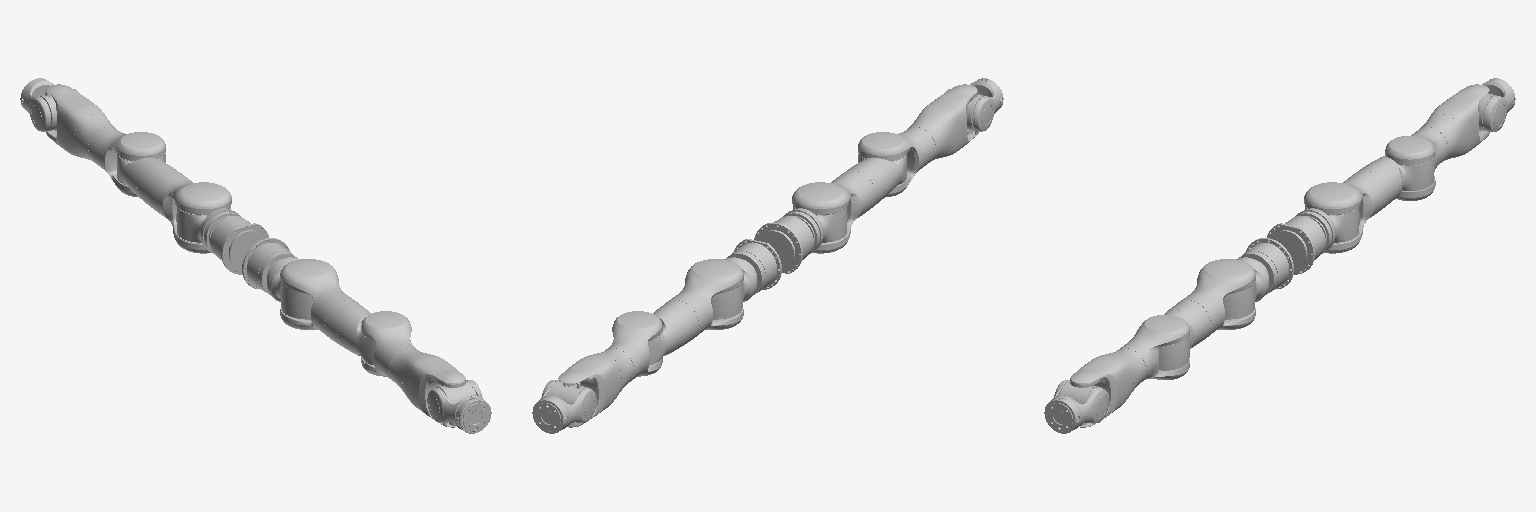
The robot description file, URDF, robot "marvin_robot":
<?xml version="1.0" ?>
<robot name="marvin_robot">
  <link name="left_base_link">
    <inertial>
      <origin rpy="0 0 0" xyz="0.0001427 1.626E-05 0.039067" />
      <mass value="1.2946" />
      <inertia ixx="0.01" ixy="0.0" ixz="0.0" iyy="0.01" iyz="0.0" izz="0.01" />
    </inertial>
    <visual>
      <origin rpy="1.57 0 3.14159" xyz="0 0 0" />
      <geometry>
        <mesh filename="meshes/arm_meshes/Base_Marvin_M6_S.STL" />
      </geometry>
      <material name="baselink_mat">
        <color rgba="0.8 0.8 0.8 1" />

      </material>
    </visual>
    <collision>
      <origin rpy="1.57 0 3.14159" xyz="0 0 0" />
      <geometry>
        <mesh filename="meshes/arm_meshes/Base_Marvin_M6_S.STL" />
      </geometry>
    </collision>
  </link>
  <link name="left_link1">
    <inertial>
      <origin rpy="0 0 0" xyz="1.875E-05 0.006003 0.1438" />
      <mass value="2.0926" />
      <inertia ixx="0.01" ixy="0.0" ixz="0.0" iyy="0.01" iyz="0.0" izz="0.01" />
    </inertial>
    <visual>
      <origin rpy="0 0 0" xyz="0 0 0" />
      <geometry>
        <mesh filename="meshes/arm_meshes/S_Arm_Marvin_M6_S.STL" />
      </geometry>
      <material name="link1_mat">
        <color rgba="0.8 0.8 0.8 1" />
      </material>
    </visual>
    <collision>
      <origin rpy="0 0 0" xyz="0 0 0" />
      <geometry>
        <mesh filename="meshes/arm_meshes/S_Arm_Marvin_M6_S.STL" />
      </geometry>
    </collision>
  </link>
  <joint name="left_joint1" type="revolute">
    <origin rpy="0 0 0" xyz="0.0 0.0 0.0" />
    <parent link="left_base_link" />
    <child link="left_link1" />
    <axis xyz="0 0 1" />
    <limit effort="108" lower="-3.11" upper="3.11" velocity="3.14" />
  </joint>
  <link name="left_link2">
    <inertial>
      <origin rpy="0 0 0" xyz="-7.03E-06 0.05542 0.010995" />
      <mass value="1.9432" />
      <inertia ixx="0.01" ixy="0.0" ixz="0.0" iyy="0.01" iyz="0.0" izz="0.01" />
    </inertial>
    <visual>
      <origin rpy="0 0 0" xyz="0 0 0" />
      <geometry>
        <mesh filename="meshes/arm_meshes/L_Arm_Marvin_M6_S.STL" />
      </geometry>
      <material name="link2_mat">
        <color rgba="0.8 0.8 0.8 1" />
      </material>
    </visual>
    <collision>
      <origin rpy="0 0 0" xyz="0 0 0" />
      <geometry>
        <mesh filename="meshes/arm_meshes/L_Arm_Marvin_M6_S.STL" />
      </geometry>
    </collision>
  </link>
  <joint name="left_joint2" type="revolute">
    <origin rpy="0 0 0" xyz="0.0 0.0 0.1745" />
    <parent link="left_link1" />
    <child link="left_link2" />
    <axis xyz="0 -1 0" />
    <limit effort="108" lower="-2.093" upper="2.093" velocity="3.14" />
  </joint>
  <link name="left_link3">
    <inertial>
      <origin rpy="0 0 0" xyz="0.0087411 0.0019043 0.23487" />
      <mass value="1.6913" />
      <inertia ixx="0.01" ixy="0.0" ixz="0.0" iyy="0.01" iyz="0.0" izz="0.01" />
    </inertial>
    <visual>
      <origin rpy="0 0 0" xyz="0 0 0" />
      <geometry>
        <mesh filename="meshes/arm_meshes/E_Arm_Marvin_M6_S_689.STL" />
      </geometry>
      <material name="link3_mat">
        <color rgba="0.8 0.8 0.8 1" />
      </material>
    </visual>
    <collision>
      <origin rpy="0 0 0" xyz="0 0 0" />
      <geometry>
        <mesh filename="meshes/arm_meshes/E_Arm_Marvin_M6_S_689.STL" />
      </geometry>
    </collision>
  </link>
  <joint name="left_joint3" type="revolute">
    <origin rpy="0 0 0" xyz="0.0 0.0 0.0" />
    <parent link="left_link2" />
    <child link="left_link3" />
    <axis xyz="0 0 1" />
    <limit effort="66" lower="-3.11" upper="3.11" velocity="3.14" />
  </joint>
  <link name="left_link4">
    <inertial>
      <origin rpy="0 0 0" xyz="-0.0086935 0.045984 0.011135" />
      <mass value="1.5332" />
      <inertia ixx="0.01" ixy="0.0" ixz="0.0" iyy="0.01" iyz="0.0" izz="0.01" />
    </inertial>
    <visual>
      <origin rpy="0 0 0" xyz="0 0 0" />
      <geometry>
        <mesh filename="meshes/arm_meshes/U_Arm_Marvin_M6_S_CCS.STL" />
      </geometry>
      <material name="link4_mat">
        <color rgba="0.8 0.8 0.8 1" />
      </material>
    </visual>
    <collision>
      <origin rpy="0 0 0" xyz="0 0 0" />
      <geometry>
        <mesh filename="meshes/arm_meshes/U_Arm_Marvin_M6_S_CCS.STL" />
      </geometry>
    </collision>
  </link>
  <joint name="left_joint4" type="revolute">
    <origin rpy="0 0 0" xyz="0.018 0.0 0.287" />
    <parent link="left_link3" />
    <child link="left_link4" />
    <axis xyz="0 -1 0" />
    <limit effort="66" lower="-1.047" upper="2.529" velocity="3.14" />
  </joint>
  <link name="left_link5">
    <inertial>
      <origin rpy="0 0 0" xyz="-0.00036467 0.0001479 0.19902" />
      <mass value="2.0095" />
      <inertia ixx="0.01" ixy="0.0" ixz="0.0" iyy="0.01" iyz="0.0" izz="0.01" />
    </inertial>
    <visual>
      <origin rpy="0 0 0" xyz="0 0 0" />
      <geometry>
        <mesh filename="meshes/arm_meshes/R_Arm_Marvin_M6_S_CCS.STL" />
      </geometry>
      <material name="link5_mat">
        <color rgba="0.8 0.8 0.8 1" />
      </material>
    </visual>
    <collision>
      <origin rpy="0 0 0" xyz="0 0 0" />
      <geometry>
        <mesh filename="meshes/arm_meshes/R_Arm_Marvin_M6_S_CCS.STL" />
      </geometry>
    </collision>
  </link>
  <joint name="left_joint5" type="revolute">
    <origin rpy="0 0 0" xyz="-0.018 0.0 0.314" />
    <parent link="left_link4" />
    <child link="left_link5" />
    <axis xyz="0 0 1" />
    <limit effort="18" lower="-3.11" upper="3.11" velocity="3.14" />
  </joint>
  <link name="left_link6">
    <inertial>
      <origin rpy="0 0 0" xyz="-0.004911 0.00027206 -8.14E-05" />
      <mass value="0.67002" />
      <inertia ixx="0.01" ixy="0.0" ixz="0.0" iyy="0.01" iyz="0.0" izz="0.01" />
    </inertial>
    <visual>
      <origin rpy="0 0 0" xyz="0 0 0" />
      <geometry>
        <mesh filename="meshes/arm_meshes/B_Arm_Marvin_M6_S_CCS.STL" />
      </geometry>
      <material name="link6_mat">
        <color rgba="0.8 0.8 0.8 1" />
      </material>
    </visual>
    <collision>
      <origin rpy="0 0 0" xyz="0 0 0" />
      <geometry>
        <mesh filename="meshes/arm_meshes/B_Arm_Marvin_M6_S_CCS.STL" />
      </geometry>
    </collision>
  </link>
  <joint name="left_joint6" type="revolute">
    <origin rpy="0 0 0" xyz="0.0 0.0 0.0" />
    <parent link="left_link5" />
    <child link="left_link6" />
    <axis xyz="0 -1 0" />
    <limit effort="18" lower="-1.0467" upper="1.0467" velocity="3.14" />
  </joint>
  <link name="left_link7">
    <inertial>
      <origin rpy="0 0 0" xyz="0.044988 -4.226E-05 0.0055581" />
      <mass value="0.31658" />
      <inertia ixx="0.01" ixy="0.0" ixz="0.0" iyy="0.01" iyz="0.0" izz="0.01" />
    </inertial>
    <visual>
      <origin rpy="0 -1.57 3.14" xyz="0 0 0" />
      <geometry>
        <mesh filename="meshes/arm_meshes/T_Arm_Marvin_M6_S_R_CCS.STL" />
      </geometry>
      <material name="link7_mat">
        <color rgba="0.8 0.8 0.8 1" />
      </material>
    </visual>
    <collision>
      <origin rpy="0 -1.57 3.14" xyz="0 0 0" />
      <geometry>
        <mesh filename="meshes/arm_meshes/T_Arm_Marvin_M6_S_R_CCS.STL" />
      </geometry>
    </collision>
  </link>
  <joint name="left_joint7" type="revolute">
    <origin rpy="0 0 0" xyz="0.0 0.0 0.0" />
    <parent link="left_link6" />
    <child link="left_link7" />
    <axis xyz="1 0 0" />
    <limit effort="18" lower="-1.57" upper="1.57" velocity="3.14" />
  </joint>
  <link name="left_flange" />
  <joint name="left_joint_flange" type="fixed">
    <origin rpy="0 0 0" xyz="0.0 0.0 0.088" />
    <parent link="left_link7" />
    <child link="left_flange" />
  </joint>
  <link name="right_base_link">
    <inertial>
      <origin rpy="0 0 0" xyz="0.0001427 1.626E-05 0.039067" />
      <mass value="1.2946" />
      <inertia ixx="0.01" ixy="0.0" ixz="0.0" iyy="0.01" iyz="0.0" izz="0.01" />
    </inertial>
    <visual>
      <origin rpy="1.57 0 3.14159" xyz="0 0 0" />
      <geometry>
        <mesh filename="meshes/arm_meshes/Base_Marvin_M6_S.STL" />
      </geometry>
      <material name="baselink_mat">
        <color rgba="0.8 0.8 0.8 1" />

      </material>
    </visual>
    <collision>
      <origin rpy="1.57 0 3.14159" xyz="0 0 0" />
      <geometry>
        <mesh filename="meshes/arm_meshes/Base_Marvin_M6_S.STL" />
      </geometry>
    </collision>
  </link>
  <link name="right_link1">
    <inertial>
      <origin rpy="0 0 0" xyz="1.875E-05 0.006003 0.1438" />
      <mass value="2.0926" />
      <inertia ixx="0.01" ixy="0.0" ixz="0.0" iyy="0.01" iyz="0.0" izz="0.01" />
    </inertial>
    <visual>
      <origin rpy="0 0 0" xyz="0 0 0" />
      <geometry>
        <mesh filename="meshes/arm_meshes/S_Arm_Marvin_M6_S.STL" />
      </geometry>
      <material name="link1_mat">
        <color rgba="0.8 0.8 0.8 1" />
      </material>
    </visual>
    <collision>
      <origin rpy="0 0 0" xyz="0 0 0" />
      <geometry>
        <mesh filename="meshes/arm_meshes/S_Arm_Marvin_M6_S.STL" />
      </geometry>
    </collision>
  </link>
  <joint name="right_joint1" type="revolute">
    <origin rpy="0 0 0" xyz="0.0 0.0 0.0" />
    <parent link="right_base_link" />
    <child link="right_link1" />
    <axis xyz="0 0 1" />
    <limit effort="108" lower="-3.11" upper="3.11" velocity="3.14" />
  </joint>
  <link name="right_link2">
    <inertial>
      <origin rpy="0 0 0" xyz="-7.03E-06 0.05542 0.010995" />
      <mass value="1.9432" />
      <inertia ixx="0.01" ixy="0.0" ixz="0.0" iyy="0.01" iyz="0.0" izz="0.01" />
    </inertial>
    <visual>
      <origin rpy="0 0 0" xyz="0 0 0" />
      <geometry>
        <mesh filename="meshes/arm_meshes/L_Arm_Marvin_M6_S.STL" />
      </geometry>
      <material name="link2_mat">
        <color rgba="0.8 0.8 0.8 1" />
      </material>
    </visual>
    <collision>
      <origin rpy="0 0 0" xyz="0 0 0" />
      <geometry>
        <mesh filename="meshes/arm_meshes/L_Arm_Marvin_M6_S.STL" />
      </geometry>
    </collision>
  </link>
  <joint name="right_joint2" type="revolute">
    <origin rpy="0 0 0" xyz="0.0 0.0 0.1745" />
    <parent link="right_link1" />
    <child link="right_link2" />
    <axis xyz="0 -1 0" />
    <limit effort="108" lower="-2.093" upper="2.093" velocity="3.14" />
  </joint>
  <link name="right_link3">
    <inertial>
      <origin rpy="0 0 0" xyz="0.0087411 0.0019043 0.23487" />
      <mass value="1.6913" />
      <inertia ixx="0.01" ixy="0.0" ixz="0.0" iyy="0.01" iyz="0.0" izz="0.01" />
    </inertial>
    <visual>
      <origin rpy="0 0 0" xyz="0 0 0" />
      <geometry>
        <mesh filename="meshes/arm_meshes/E_Arm_Marvin_M6_S_689.STL" />
      </geometry>
      <material name="link3_mat">
        <color rgba="0.8 0.8 0.8 1" />
      </material>
    </visual>
    <collision>
      <origin rpy="0 0 0" xyz="0 0 0" />
      <geometry>
        <mesh filename="meshes/arm_meshes/E_Arm_Marvin_M6_S_689.STL" />
      </geometry>
    </collision>
  </link>
  <joint name="right_joint3" type="revolute">
    <origin rpy="0 0 0" xyz="0.0 0.0 0.0" />
    <parent link="right_link2" />
    <child link="right_link3" />
    <axis xyz="0 0 1" />
    <limit effort="66" lower="-3.11" upper="3.11" velocity="3.14" />
  </joint>
  <link name="right_link4">
    <inertial>
      <origin rpy="0 0 0" xyz="-0.0086935 0.045984 0.011135" />
      <mass value="1.5332" />
      <inertia ixx="0.01" ixy="0.0" ixz="0.0" iyy="0.01" iyz="0.0" izz="0.01" />
    </inertial>
    <visual>
      <origin rpy="0 0 0" xyz="0 0 0" />
      <geometry>
        <mesh filename="meshes/arm_meshes/U_Arm_Marvin_M6_S_CCS.STL" />
      </geometry>
      <material name="link4_mat">
        <color rgba="0.8 0.8 0.8 1" />
      </material>
    </visual>
    <collision>
      <origin rpy="0 0 0" xyz="0 0 0" />
      <geometry>
        <mesh filename="meshes/arm_meshes/U_Arm_Marvin_M6_S_CCS.STL" />
      </geometry>
    </collision>
  </link>
  <joint name="right_joint4" type="revolute">
    <origin rpy="0 0 0" xyz="0.018 0.0 0.287" />
    <parent link="right_link3" />
    <child link="right_link4" />
    <axis xyz="0 -1 0" />
    <limit effort="66" lower="-1.047" upper="2.529" velocity="3.14" />
  </joint>
  <link name="right_link5">
    <inertial>
      <origin rpy="0 0 0" xyz="-0.00036467 0.0001479 0.19902" />
      <mass value="2.0095" />
      <inertia ixx="0.01" ixy="0.0" ixz="0.0" iyy="0.01" iyz="0.0" izz="0.01" />
    </inertial>
    <visual>
      <origin rpy="0 0 0" xyz="0 0 0" />
      <geometry>
        <mesh filename="meshes/arm_meshes/R_Arm_Marvin_M6_S_CCS.STL" />
      </geometry>
      <material name="link5_mat">
        <color rgba="0.8 0.8 0.8 1" />
      </material>
    </visual>
    <collision>
      <origin rpy="0 0 0" xyz="0 0 0" />
      <geometry>
        <mesh filename="meshes/arm_meshes/R_Arm_Marvin_M6_S_CCS.STL" />
      </geometry>
    </collision>
  </link>
  <joint name="right_joint5" type="revolute">
    <origin rpy="0 0 0" xyz="-0.018 0.0 0.314" />
    <parent link="right_link4" />
    <child link="right_link5" />
    <axis xyz="0 0 1" />
    <limit effort="18" lower="-3.11" upper="3.11" velocity="3.14" />
  </joint>
  <link name="right_link6">
    <inertial>
      <origin rpy="0 0 0" xyz="-0.004911 0.00027206 -8.14E-05" />
      <mass value="0.67002" />
      <inertia ixx="0.01" ixy="0.0" ixz="0.0" iyy="0.01" iyz="0.0" izz="0.01" />
    </inertial>
    <visual>
      <origin rpy="0 0 0" xyz="0 0 0" />
      <geometry>
        <mesh filename="meshes/arm_meshes/B_Arm_Marvin_M6_S_CCS.STL" />
      </geometry>
      <material name="link6_mat">
        <color rgba="0.8 0.8 0.8 1" />
      </material>
    </visual>
    <collision>
      <origin rpy="0 0 0" xyz="0 0 0" />
      <geometry>
        <mesh filename="meshes/arm_meshes/B_Arm_Marvin_M6_S_CCS.STL" />
      </geometry>
    </collision>
  </link>
  <joint name="right_joint6" type="revolute">
    <origin rpy="0 0 0" xyz="0.0 0.0 0.0" />
    <parent link="right_link5" />
    <child link="right_link6" />
    <axis xyz="0 -1 0" />
    <limit effort="18" lower="-1.0467" upper="1.0467" velocity="3.14" />
  </joint>
  <link name="right_link7">
    <inertial>
      <origin rpy="0 0 0" xyz="0.044988 -4.226E-05 0.0055581" />
      <mass value="0.31658" />
      <inertia ixx="0.01" ixy="0.0" ixz="0.0" iyy="0.01" iyz="0.0" izz="0.01" />
    </inertial>
    <visual>
      <origin rpy="0 -1.57 3.14" xyz="0 0 0" />
      <geometry>
        <mesh filename="meshes/arm_meshes/T_Arm_Marvin_M6_S_R_CCS.STL" />
      </geometry>
      <material name="link7_mat">
        <color rgba="0.8 0.8 0.8 1" />
      </material>
    </visual>
    <collision>
      <origin rpy="0 -1.57 3.14" xyz="0 0 0" />
      <geometry>
        <mesh filename="meshes/arm_meshes/T_Arm_Marvin_M6_S_R_CCS.STL" />
      </geometry>
    </collision>
  </link>
  <joint name="right_joint7" type="revolute">
    <origin rpy="0 0 0" xyz="0.0 0.0 0.0" />
    <parent link="right_link6" />
    <child link="right_link7" />
    <axis xyz="1 0 0" />
    <limit effort="18" lower="-1.57" upper="1.57" velocity="3.14" />
  </joint>
  <link name="right_flange" />
  <joint name="right_joint_flange" type="fixed">
    <origin rpy="0 0 0" xyz="0.0 0.0 0.088" />
    <parent link="right_link7" />
    <child link="right_flange" />
  </joint>

  <link name="base_link">
    <inertial>
      <origin rpy="0 0 0" xyz="-0.00002 -0.00012 0.16134" />
      <mass value="2.89" />
      <inertia ixx="0.01" ixy="0.0" ixz="0.0" iyy="0.01" iyz="0.0" izz="0.01" />
    </inertial>
    <visual>
      <origin rpy="0 0 0" xyz="0 0 0" />
      <geometry>
        <mesh filename="meshes/SRS/BASE.STL" />
      </geometry>
      <material name="baselink_mat">
        <color rgba="1 1 1 1" />

      </material>
    </visual>
    <collision>
      <origin rpy="0 0 0" xyz="0 0 0" />
      <geometry>
        <mesh filename="meshes/SRS/BASE.STL" />
      </geometry>
    </collision>
  </link>
  <link name="tracking_base_link" />
  <joint name="base_to_tracking_base" type="fixed">
    <parent link="base_link" />
    <child link="tracking_base_link" />
    <origin rpy="0 0 0" xyz="0 0 -0.5" />
  </joint>



  <joint name="base_to_left_arm" type="fixed">
    <parent link="base_link" />
    <child link="left_base_link" />
    <origin rpy="-1.57 0 0" xyz="0 0.040 0.21895" />
  </joint>
  <joint name="base_to_right_arm" type="fixed">
    <parent link="base_link" />
    <child link="right_base_link" />
    <origin rpy="1.57 0 0" xyz="0 -0.040 0.21895" />
  </joint>
</robot>

--- Render facts (derived) ---
The picture shows the robot from 3 angles, left to right: view 1: azimuth 30°, elevation 25°; view 2: azimuth 150°, elevation 25°; view 3: azimuth 330°, elevation 25°; orthographic projection.
Robot: marvin_robot — 20 links, 19 joints (14 revolute, 5 fixed); root link base_link; default pose: every joint at zero.
Visible links, largest first — view 1: left_link2, right_link2, right_link5, left_link5, left_link4, right_link4, left_base_link, right_link7, right_link3, right_base_link, left_link3, right_link1 (+2 smaller); view 2: right_link2, left_link2, right_link5, left_link5, right_link4, left_link4, right_base_link, left_link7, left_link3, left_base_link, right_link3, left_link1 (+2 smaller); view 3: left_link2, right_link2, left_link5, right_link5, right_link4, left_link4, right_link7, left_base_link, right_link3, left_link3, right_base_link, right_link1 (+2 smaller).
Link boxes in pixels (box(x1,y1,x2,y2)): left_link2: box(148, 170, 231, 253); right_link2: box(280, 259, 357, 339); right_link5: box(390, 348, 465, 427); left_link5: box(46, 84, 115, 160); left_link4: box(88, 127, 165, 196); right_link4: box(361, 311, 415, 381); left_base_link: box(210, 216, 268, 274); right_link7: box(427, 380, 491, 433); right_link3: box(325, 300, 410, 364); right_base_link: box(242, 238, 297, 294); left_link3: box(117, 154, 176, 207); right_link1: box(267, 257, 312, 319); right_link2: box(792, 170, 875, 253); left_link2: box(666, 259, 743, 339); right_link5: box(908, 84, 977, 160); left_link5: box(558, 348, 633, 427); right_link4: box(858, 127, 935, 196); left_link4: box(606, 311, 662, 381); right_base_link: box(754, 216, 813, 273); left_link7: box(532, 380, 596, 433); left_link3: box(613, 300, 698, 364); left_base_link: box(726, 239, 781, 294); right_link3: box(847, 154, 906, 207); left_link1: box(711, 257, 756, 319); left_link2: box(1304, 170, 1387, 253); right_link2: box(1178, 259, 1255, 339); left_link5: box(1420, 84, 1489, 160); right_link5: box(1070, 348, 1145, 427); right_link4: box(1120, 315, 1189, 381); left_link4: box(1385, 127, 1447, 200); right_link7: box(1044, 380, 1108, 433); left_base_link: box(1267, 216, 1325, 274); right_link3: box(1159, 300, 1210, 369); left_link3: box(1359, 156, 1434, 207); right_base_link: box(1238, 238, 1293, 294); right_link1: box(1223, 257, 1268, 319).
Size in the robot's own frame: 0.1262 by 1.81 by 0.1271 metres.
Meshes: 9 distinct files referenced, 16 mesh visuals loaded (8 binary STL); not drawn: 1 (reference not matched to a file when rendering).
